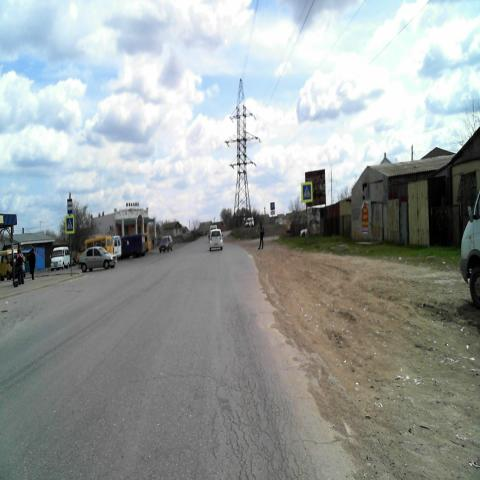5_16: (67, 200, 73, 214)
5_19_1: (300, 182, 312, 202), (66, 216, 74, 234)
6_4: (270, 202, 275, 210)
